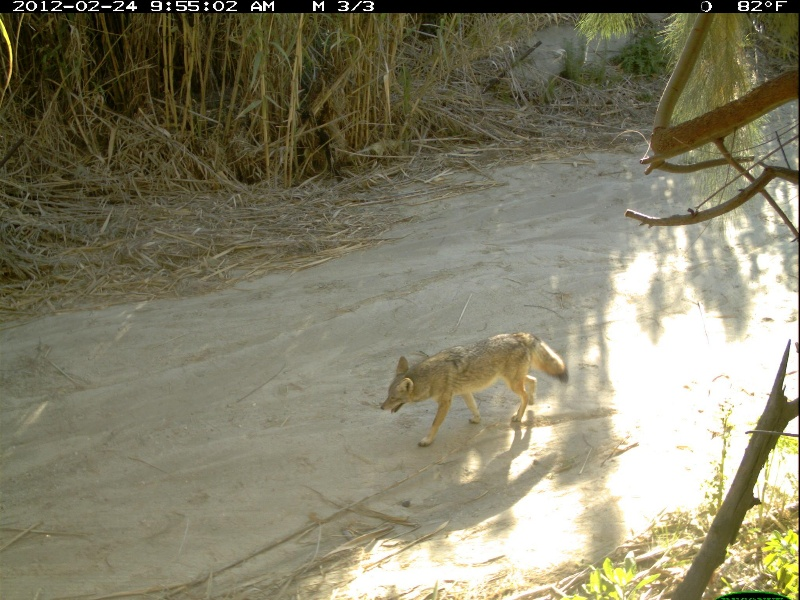coyote: (378, 329, 571, 451)
